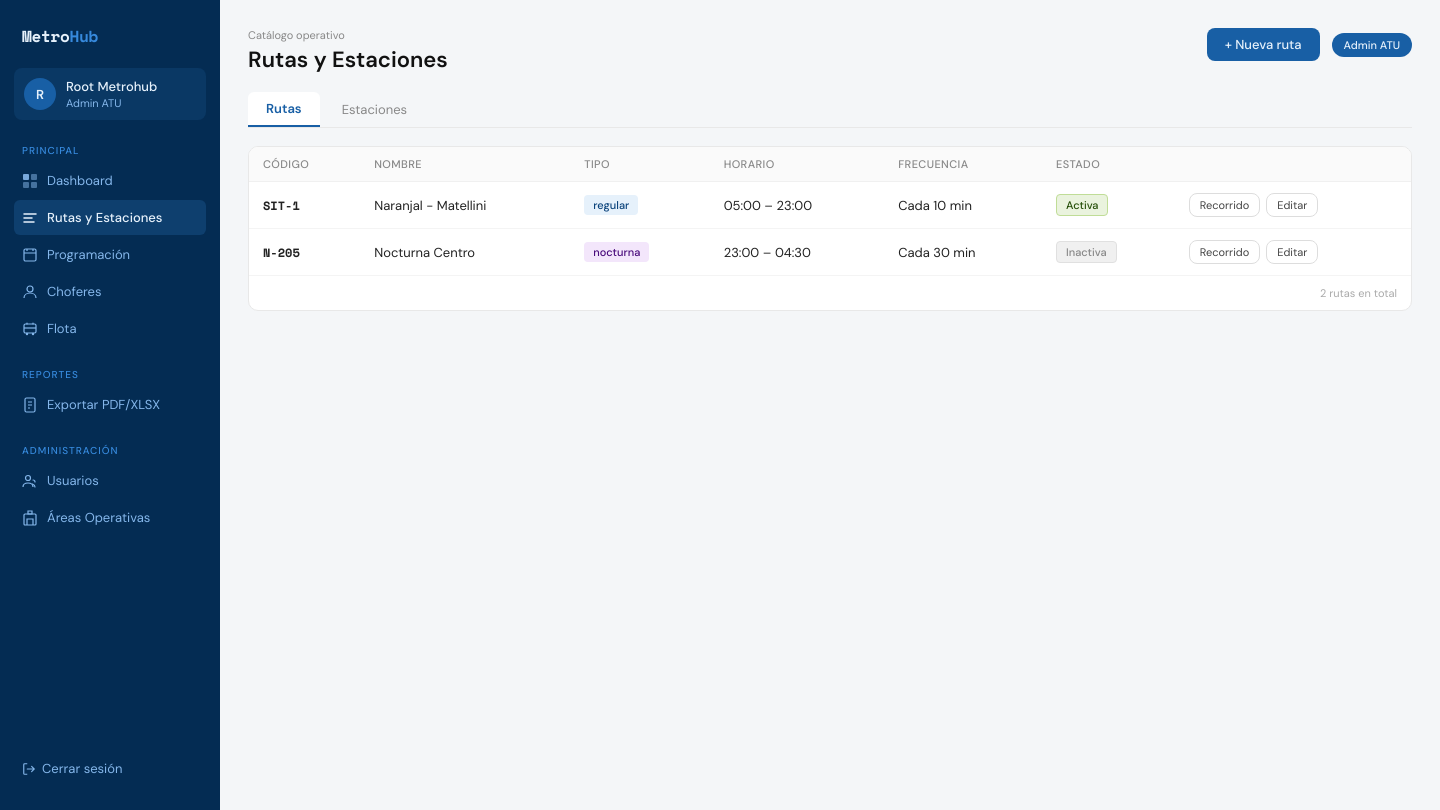
Test case: Rutas (RF02) › edita una ruta existente con el código bloqueado
The image size is (1440, 810).
Expected: the text "SIT-1" is shown, [263,196,300,214]
Click the button "Editar" in the row of "SIT-1". click: (1292, 205)
box: [1266,193,1318,217]
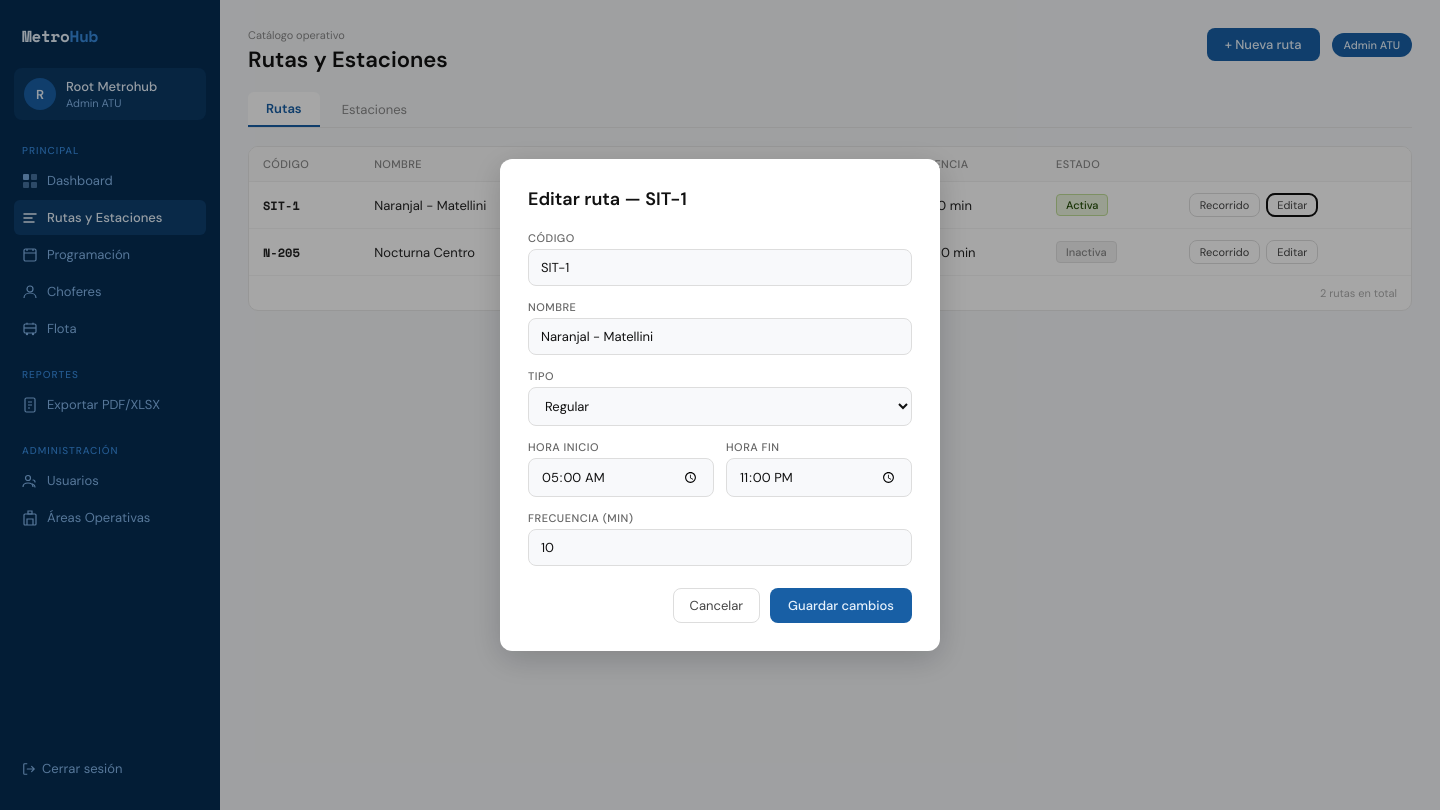
Expected: the heading "Editar ruta — SIT-1" is shown, [528,187,687,211]
Expected: the 1st field showing "SIT-1" is disabled, [528,249,912,286]
Replace the text in the 2nd field showing "Naranjal - Matellini" with "Naranjal Express". click: (720, 336)
box: [528,318,912,355]
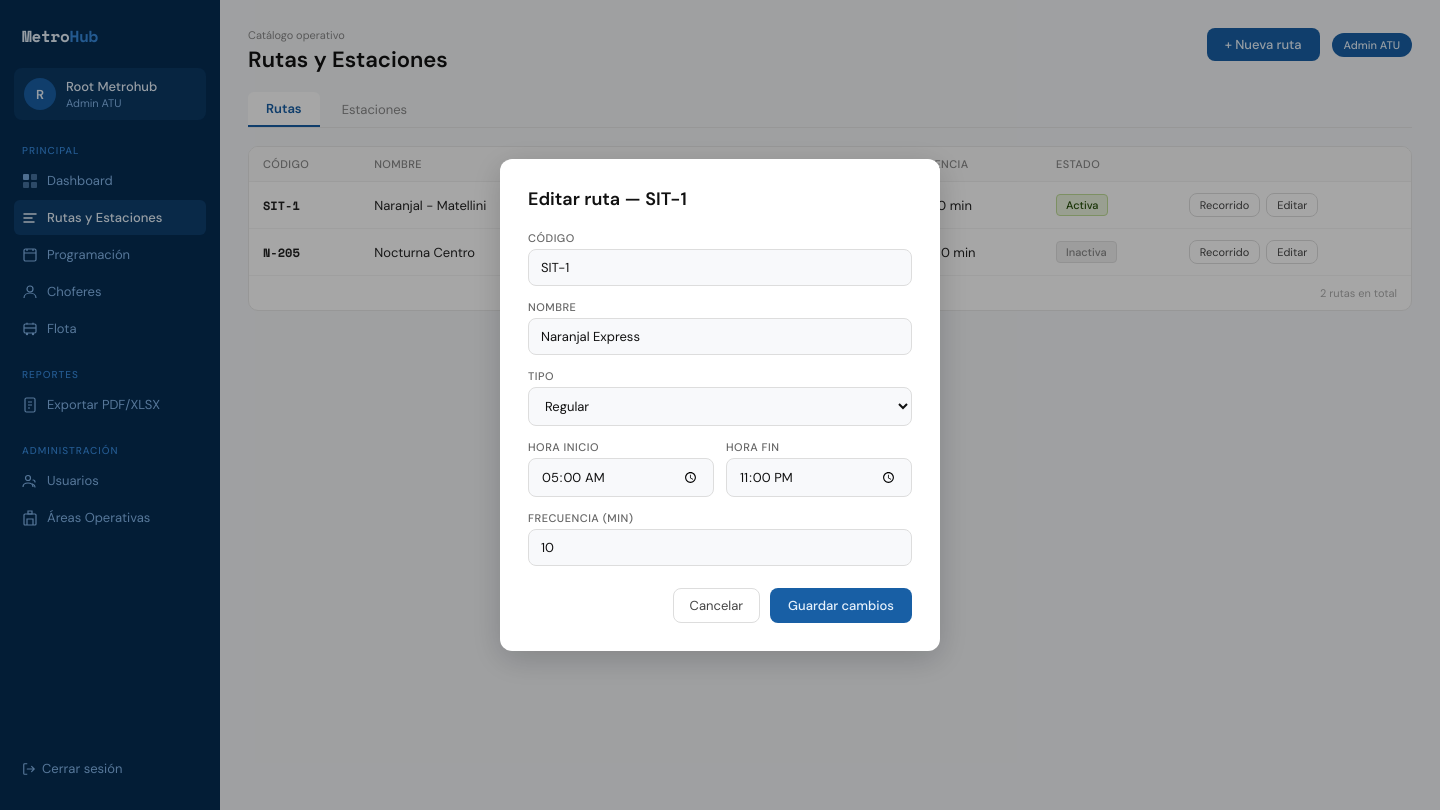
Click the button "Guardar cambios". click: (841, 606)
box: [770,588,912,623]
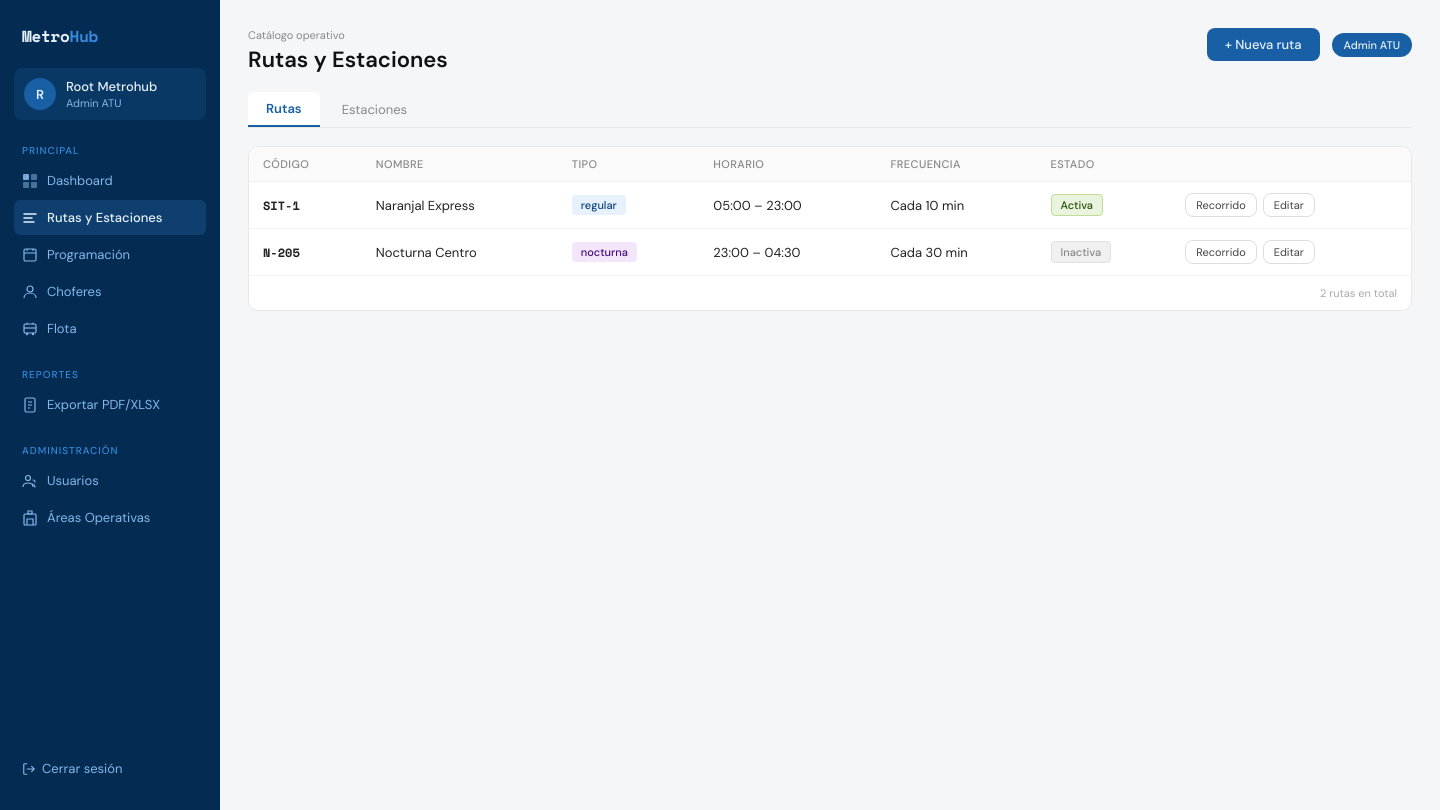
Expected: the text "Naranjal Express" is shown, [376,196,475,214]
Expected: the text "Naranjal - Matellini" is gone
